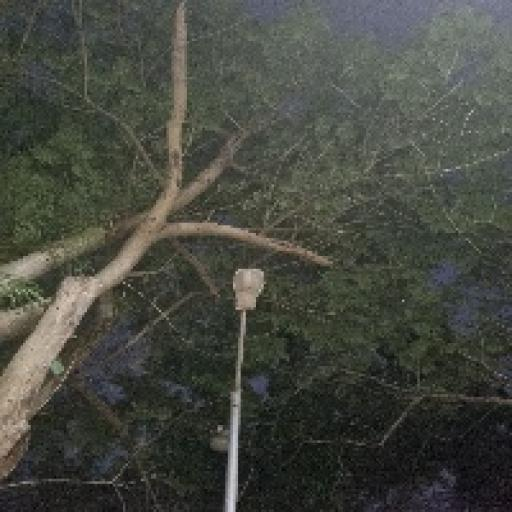Not Working: (221, 259, 273, 324)
